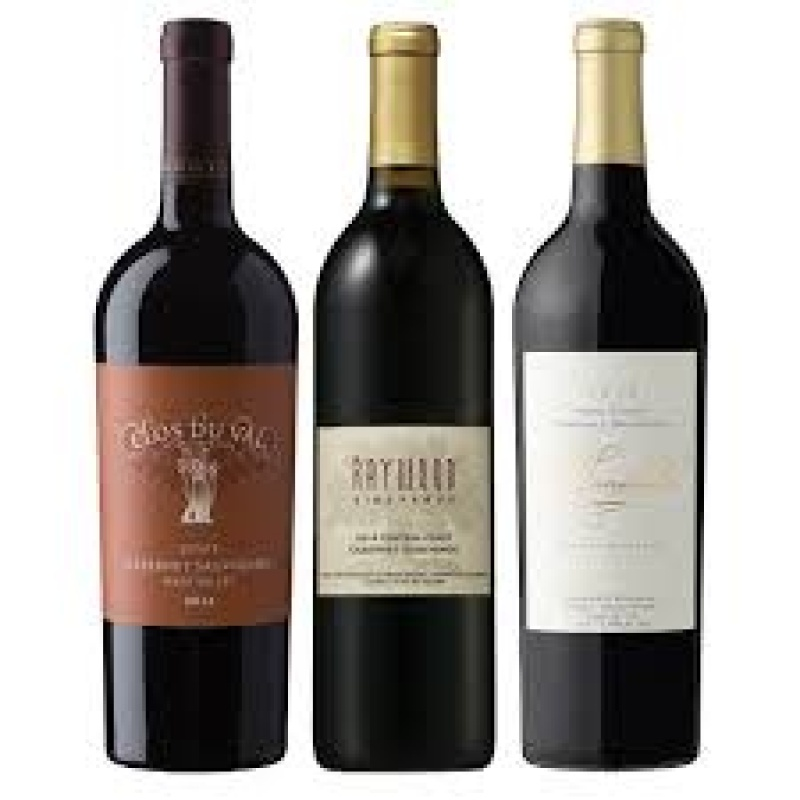wine: (91, 19, 292, 766), (311, 35, 499, 764), (514, 26, 699, 755)
